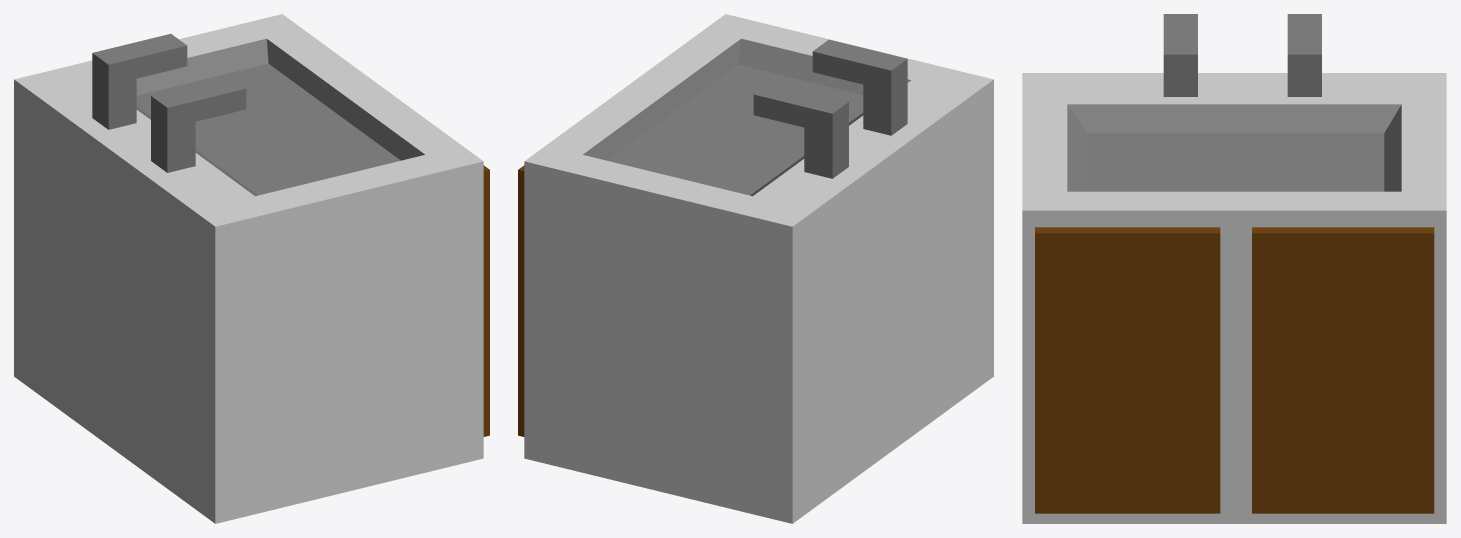
Rendered from Lavamanos.fbx.
The picture shows the model from 3 angles, left to right: view 1: azimuth 30°, elevation 25°; view 2: azimuth 150°, elevation 25°; view 3: azimuth 270°, elevation 25°; orthographic projection. The views are drawn at different scales.
Visible parts, largest first — view 1: Lavamanos; view 2: Lavamanos; view 3: Lavamanos.
Boxes of the visible parts, x1=… form: Lavamanos: x1=14, y1=14, x2=489, y2=523; Lavamanos: x1=518, y1=14, x2=993, y2=523; Lavamanos: x1=1022, y1=14, x2=1446, y2=523.
Bounding box in the file's own units: 209 × 258 × 260.
